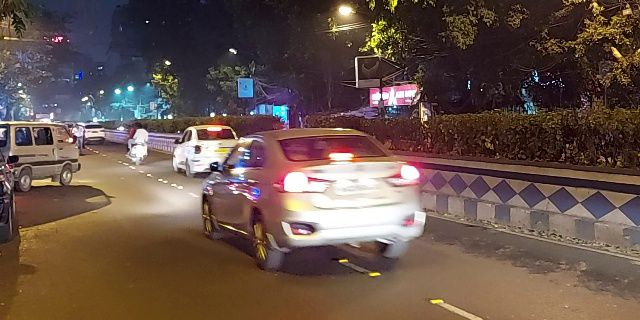Car: (202, 126, 435, 264)
Van: (6, 122, 89, 187)
